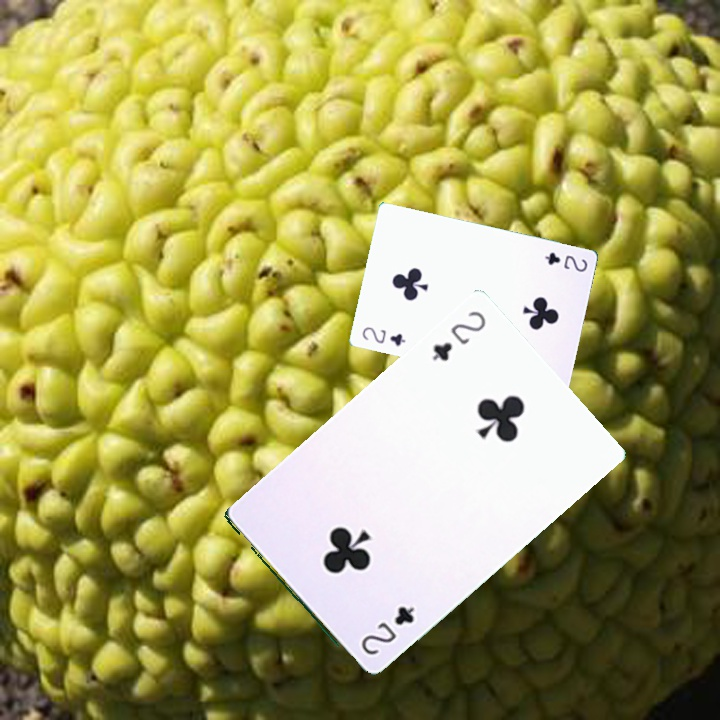2c: (428, 306, 489, 364), (356, 602, 417, 658), (541, 248, 590, 275), (358, 323, 408, 349)
